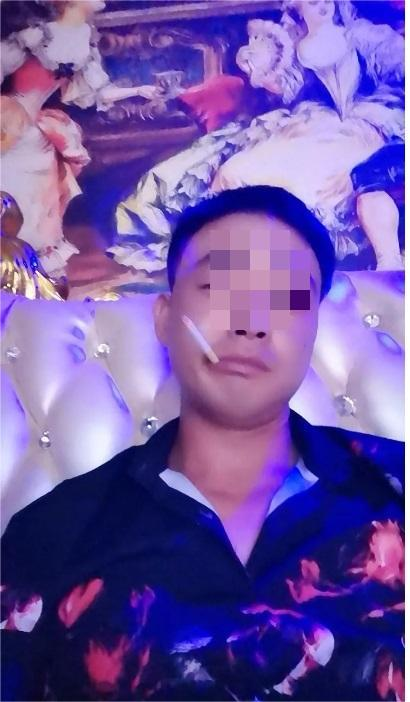smoke: (179, 317, 221, 366)
